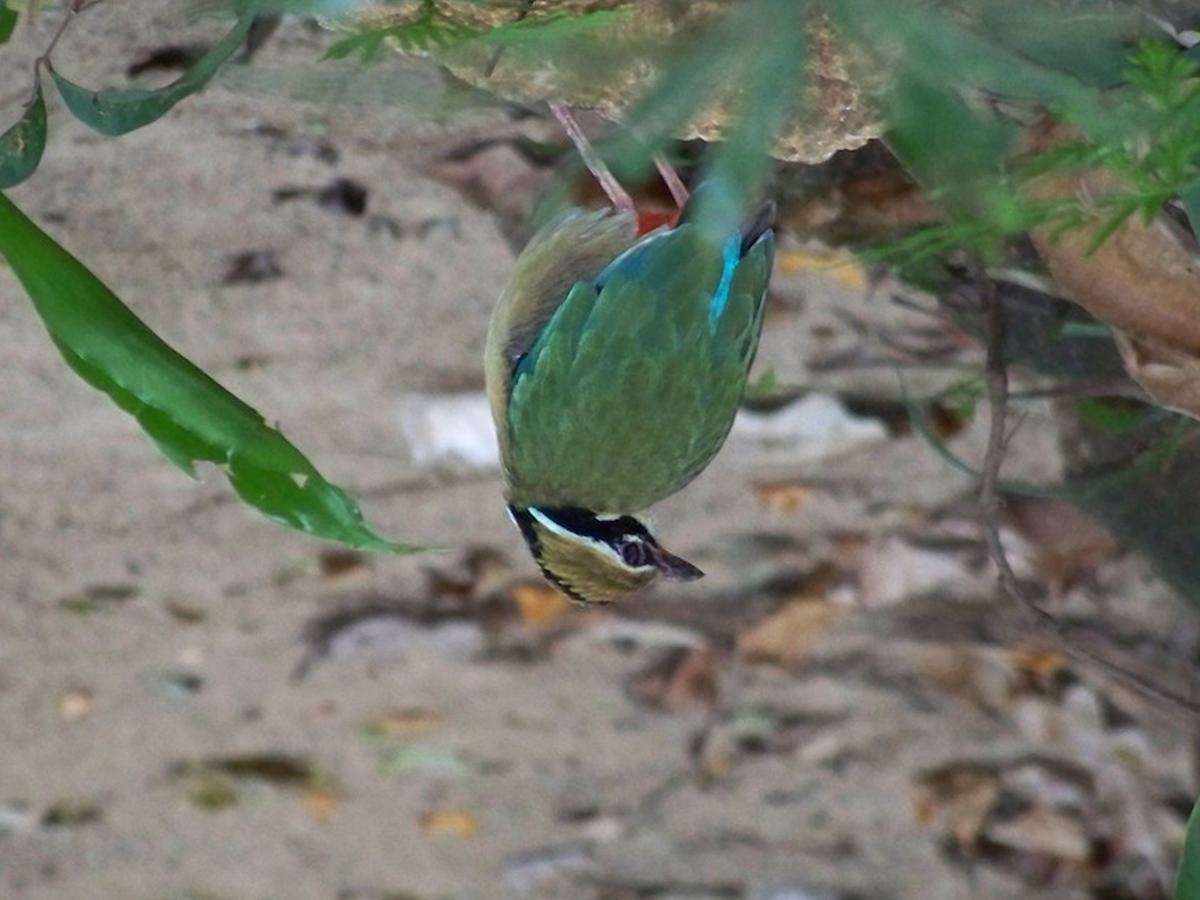pitta: (463, 185, 777, 664)
